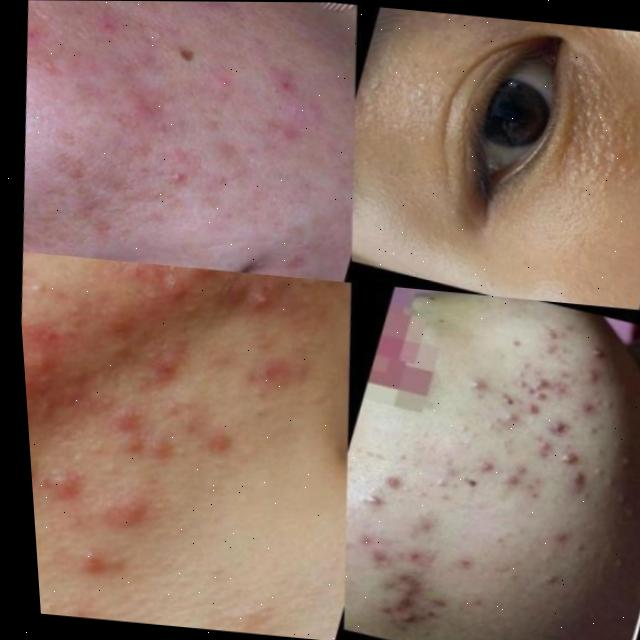Acne: (329, 313, 640, 640), (18, 264, 323, 583), (6, 0, 346, 270), (556, 60, 640, 188)
